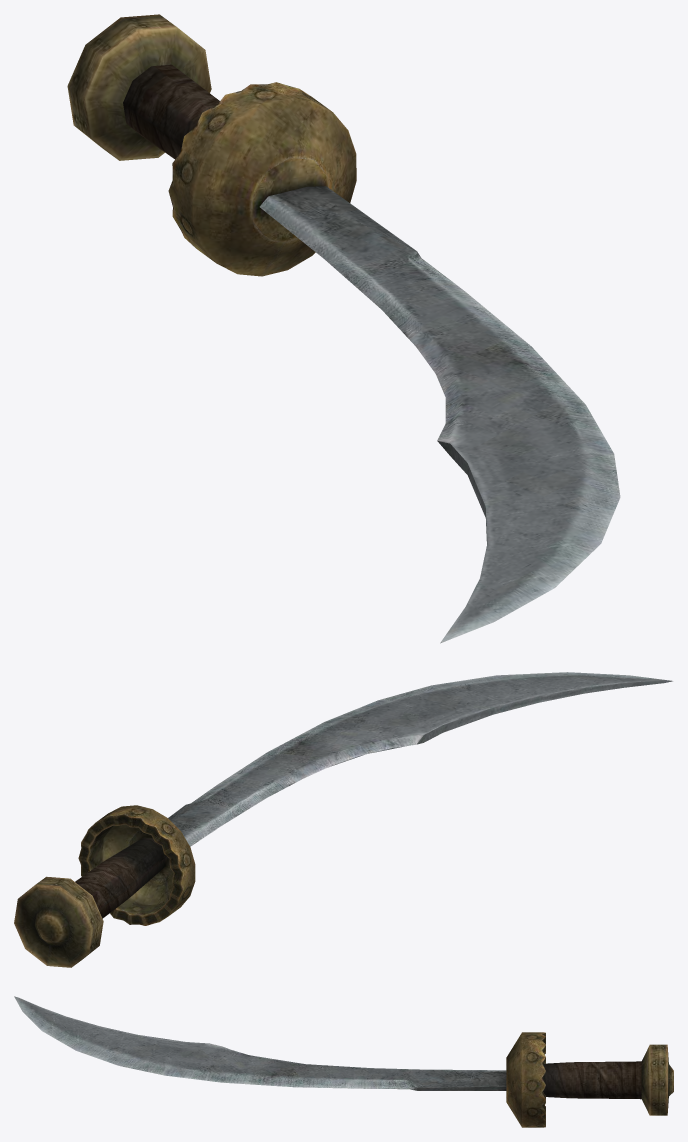
File: scimitar.glb
3 views of the same model, one above another, from view 1: azimuth 30°, elevation 25°; view 2: azimuth 150°, elevation 25°; view 3: azimuth 270°, elevation 25° (orthographic). The views are drawn at different scales.
Visible parts, largest first — view 1: Scimitar:1; view 2: Scimitar:1; view 3: Scimitar:1.
Boxes of the visible parts, x1,y1,x2,y2 form: Scimitar:1: [67, 14, 620, 643]; Scimitar:1: [14, 672, 672, 967]; Scimitar:1: [14, 996, 673, 1127].
Size of the model in its own units: 0.3537 by 0.1373 by 0.95.
Materials: 1 (1 with a texture image).
